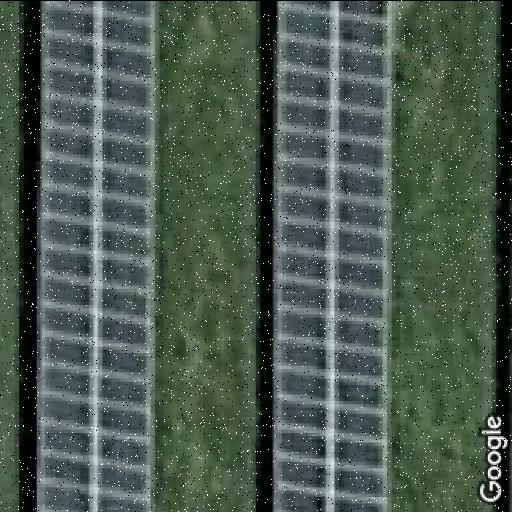solar-panel: (32, 0, 165, 512), (269, 0, 397, 512)
